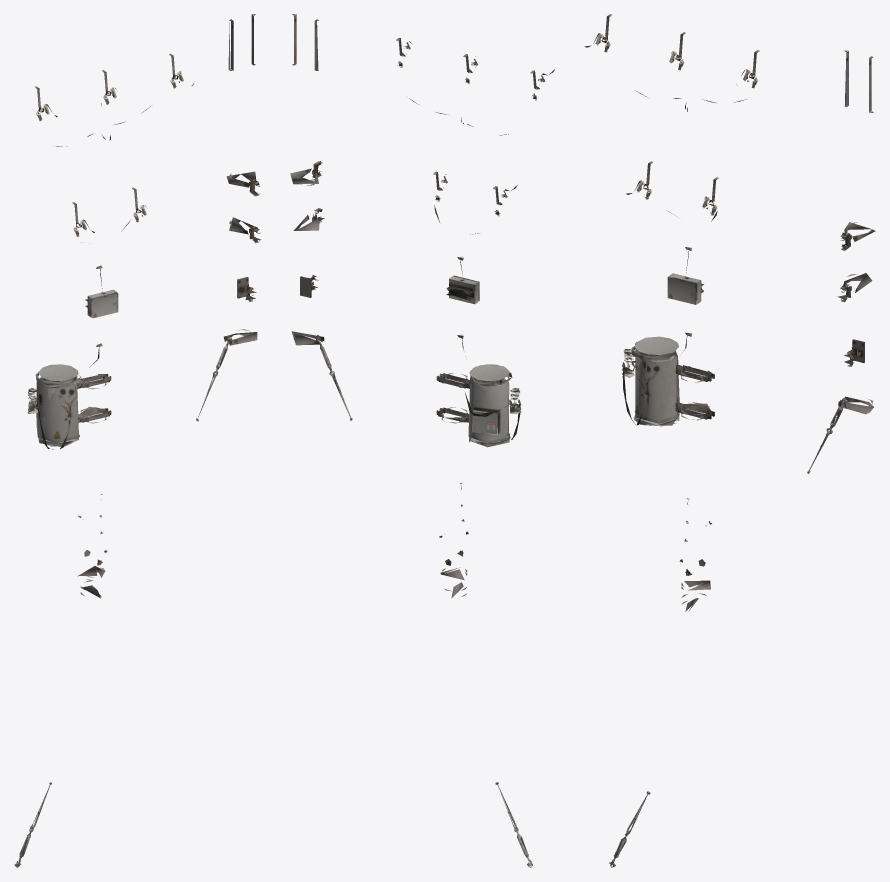
Rendered from ph_power_pole_04.fbx.
The picture shows the model from 3 angles, left to right: view 1: azimuth 30°, elevation 25°; view 2: azimuth 150°, elevation 25°; view 3: azimuth 330°, elevation 25°; orthographic projection. The views are drawn at different scales.
Parts seen in each view (by area): view 1: ph_power_pole_04_LOD0; view 2: ph_power_pole_04_LOD0; view 3: ph_power_pole_04_LOD0.
Boxes of the visible parts, x1=… form: ph_power_pole_04_LOD0: x1=14, y1=14, x2=261, y2=867; ph_power_pole_04_LOD0: x1=290, y1=14, x2=554, y2=867; ph_power_pole_04_LOD0: x1=584, y1=14, x2=875, y2=867.
Size of what is drawn, in the model's own units: 1.62 by 5.1 by 0.5447.
